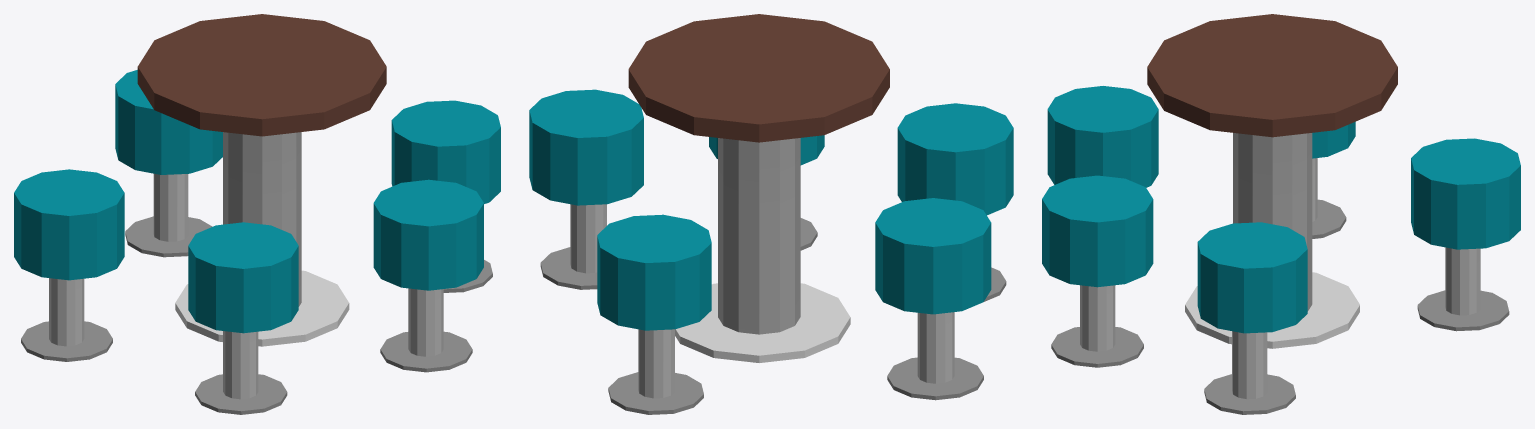
Rendered from table.fbx.
3 renders of one model, left to right at view 1: azimuth 30°, elevation 25°; view 2: azimuth 150°, elevation 25°; view 3: azimuth 270°, elevation 25°, orthographic. The views are drawn at different scales.
Visible parts, largest first — view 1: Cylinder.020, Cylinder.023, Cylinder.026, Cylinder.029, Cylinder.032, Cylinder.035, Cylinder.034, Cylinder.028, Cylinder.022, Cylinder.025, Cylinder.027, Cylinder.024 (+2 smaller); view 2: Cylinder.020, Cylinder.032, Cylinder.023, Cylinder.035, Cylinder.026, Cylinder.022, Cylinder.033, Cylinder.021, Cylinder.034, Cylinder.029; view 3: Cylinder.020, Cylinder.032, Cylinder.029, Cylinder.035, Cylinder.026, Cylinder.034, Cylinder.028, Cylinder.033, Cylinder.027, Cylinder.023, Cylinder.021.
Part boxes in pixels (bbox=[...]): Cylinder.020: bbox=[137, 14, 386, 346]; Cylinder.023: bbox=[14, 169, 124, 280]; Cylinder.026: bbox=[188, 222, 298, 333]; Cylinder.029: bbox=[373, 179, 483, 290]; Cylinder.032: bbox=[391, 100, 500, 292]; Cylinder.035: bbox=[115, 70, 222, 174]; Cylinder.034: bbox=[153, 173, 188, 241]; Cylinder.028: bbox=[408, 288, 443, 356]; Cylinder.022: bbox=[49, 278, 84, 346]; Cylinder.025: bbox=[223, 331, 258, 399]; Cylinder.027: bbox=[380, 331, 472, 372]; Cylinder.024: bbox=[195, 374, 287, 414]; Cylinder.020: bbox=[628, 14, 889, 362]; Cylinder.032: bbox=[529, 89, 643, 289]; Cylinder.023: bbox=[875, 198, 991, 314]; Cylinder.035: bbox=[597, 214, 711, 330]; Cylinder.026: bbox=[897, 103, 1013, 215]; Cylinder.022: bbox=[917, 312, 954, 383]; Cylinder.033: bbox=[608, 372, 703, 414]; Cylinder.021: bbox=[887, 357, 983, 400]; Cylinder.034: bbox=[638, 329, 674, 398]; Cylinder.029: bbox=[709, 135, 824, 165]; Cylinder.020: bbox=[1147, 14, 1397, 348]; Cylinder.032: bbox=[1197, 222, 1307, 414]; Cylinder.029: bbox=[1042, 175, 1153, 287]; Cylinder.035: bbox=[1411, 138, 1520, 249]; Cylinder.026: bbox=[1047, 86, 1158, 187]; Cylinder.034: bbox=[1445, 247, 1480, 315]; Cylinder.028: bbox=[1080, 285, 1115, 351]; Cylinder.033: bbox=[1417, 290, 1509, 331]; Cylinder.027: bbox=[1051, 327, 1143, 367]; Cylinder.023: bbox=[1312, 121, 1355, 158]; Cylinder.021: bbox=[1312, 199, 1346, 238].
Size of the model in its own units: 89.32 by 46.27 by 82.01.
1 material, 1 textured.
